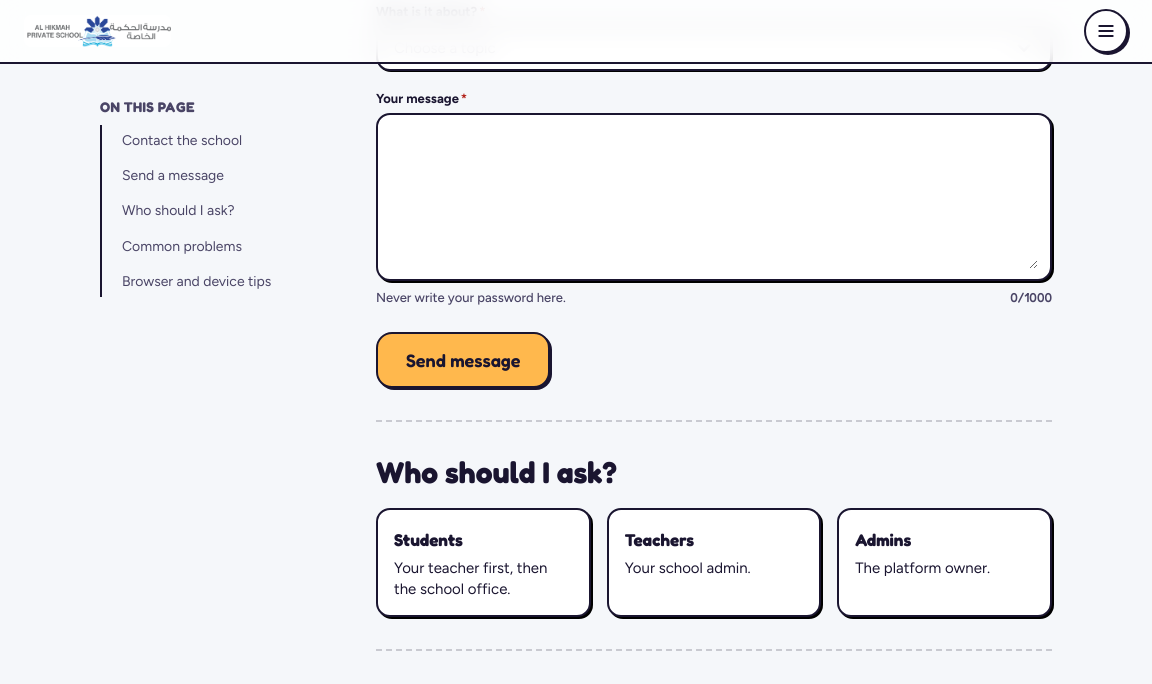
Test: PUB-08: HelpContactPage (SH-06) › validates with helpful hints and focuses the first problem on submit
(page scrolled)
Click the button "Send message".
click(463, 360)  # box x1=376 y1=332 x2=550 y2=388
(page scrolled)
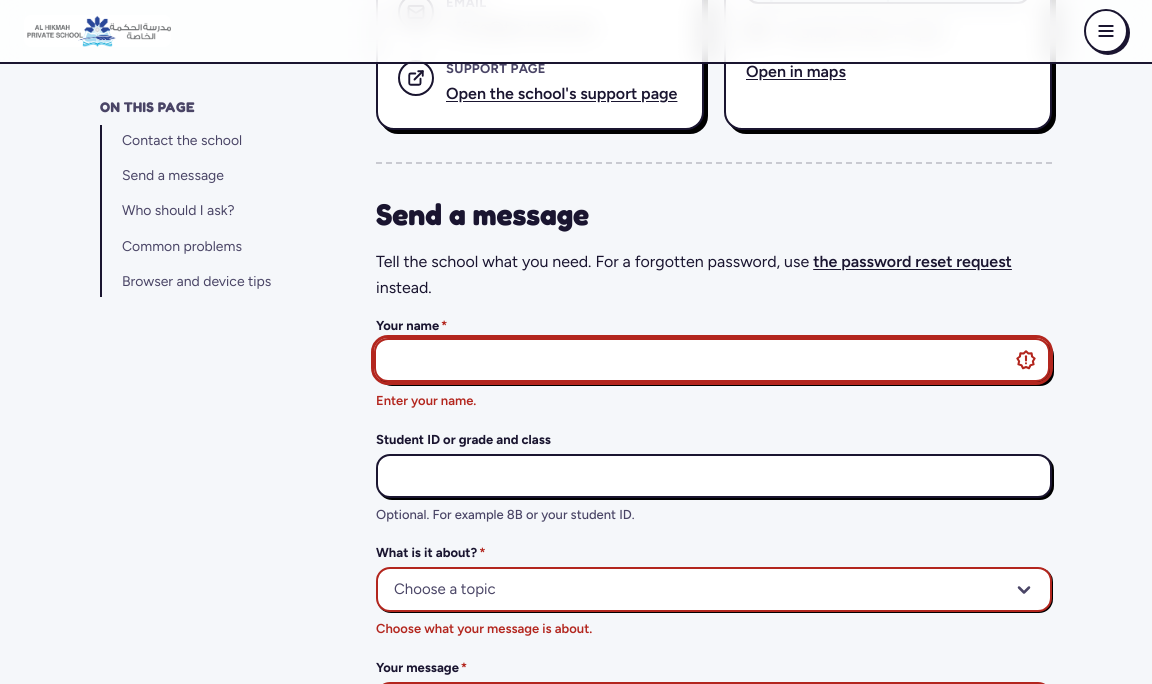
Now the text "Enter your name." is shown, box x1=376 y1=390 x2=476 y2=412
Now the text "Choose what your message is about." is shown, box x1=376 y1=621 x2=592 y2=636
